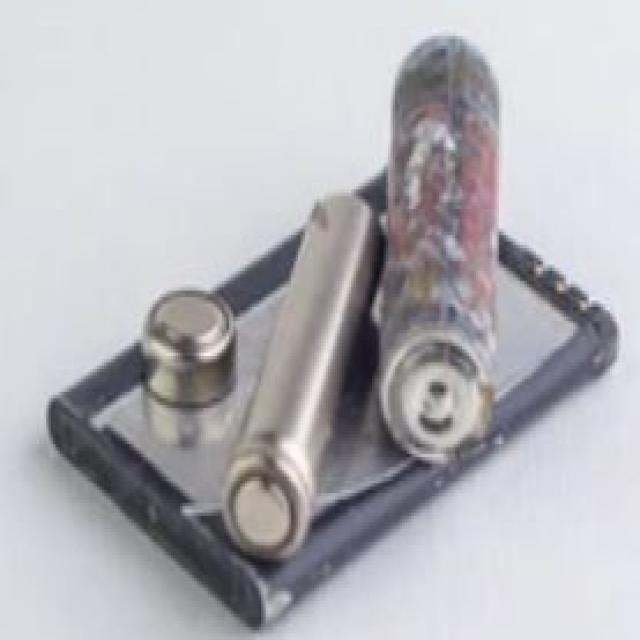electronic: (216, 124, 384, 605), (90, 235, 250, 434)
